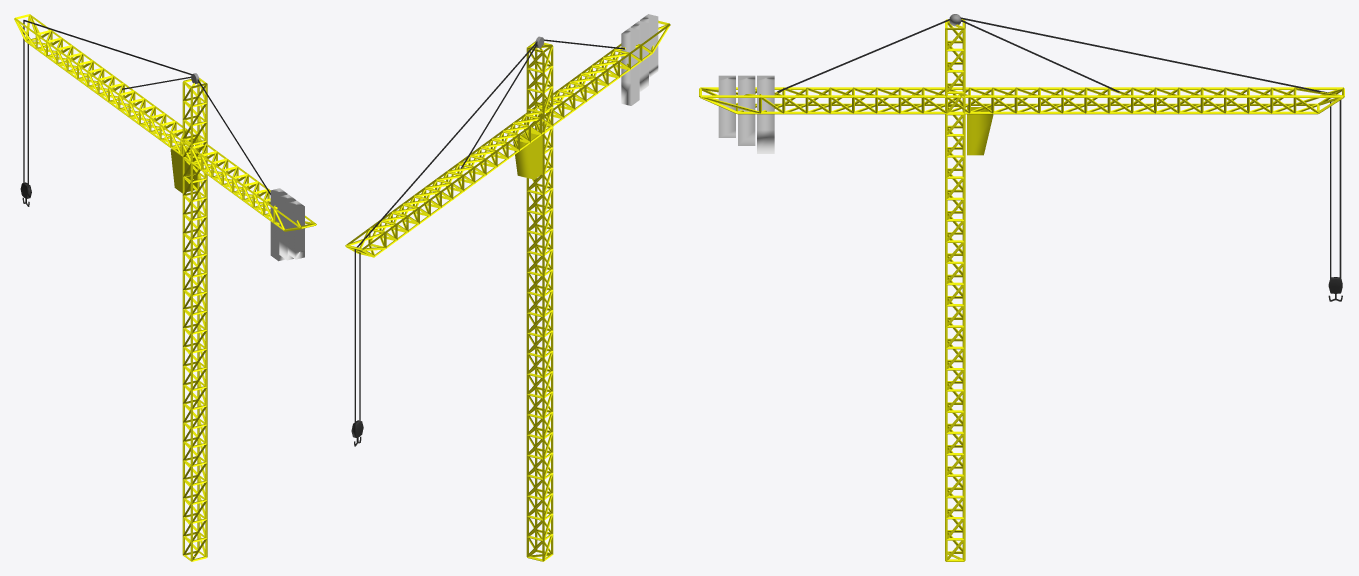
The model's file is t_crane.obj.
3 views of the same model, side by side, from view 1: azimuth 30°, elevation 25°; view 2: azimuth 150°, elevation 25°; view 3: azimuth 270°, elevation 25° (orthographic). The views are drawn at different scales.
Visible parts, largest first — view 1: Box01, Box02, Object01, Line01, Object04; view 2: Box01, Box02, Object01, Line01, Object04; view 3: Box02, Box01, Object01, Line01, Object04.
Part boxes in pixels (x1,y1,x2,y2): Box01: (182,77,207,561); Box02: (14,14,316,231); Object01: (270,188,304,261); Line01: (23,20,270,194); Object04: (170,145,197,193); Box01: (526,41,553,561); Box02: (345,20,670,257); Object01: (621,14,658,105); Line01: (354,39,624,424); Object04: (513,132,542,179); Box02: (699,87,1344,114); Box01: (945,19,965,561); Object01: (718,75,774,153); Line01: (777,17,1341,279); Object04: (967,107,993,155).
Size of the model in its own units: 0.7638 by 20.78 by 22.39.
